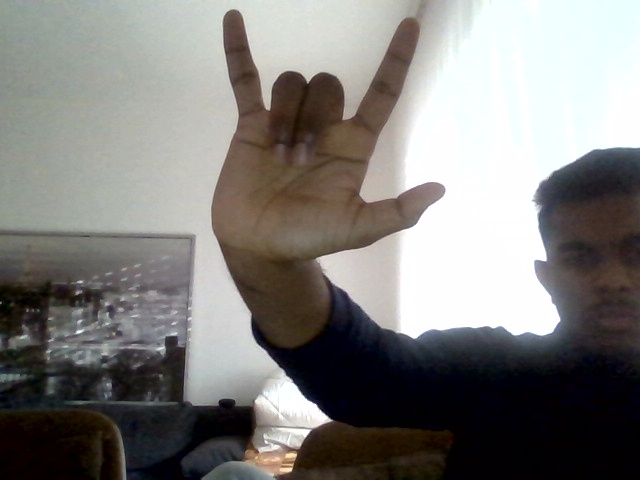thank: (219, 8, 445, 254)
